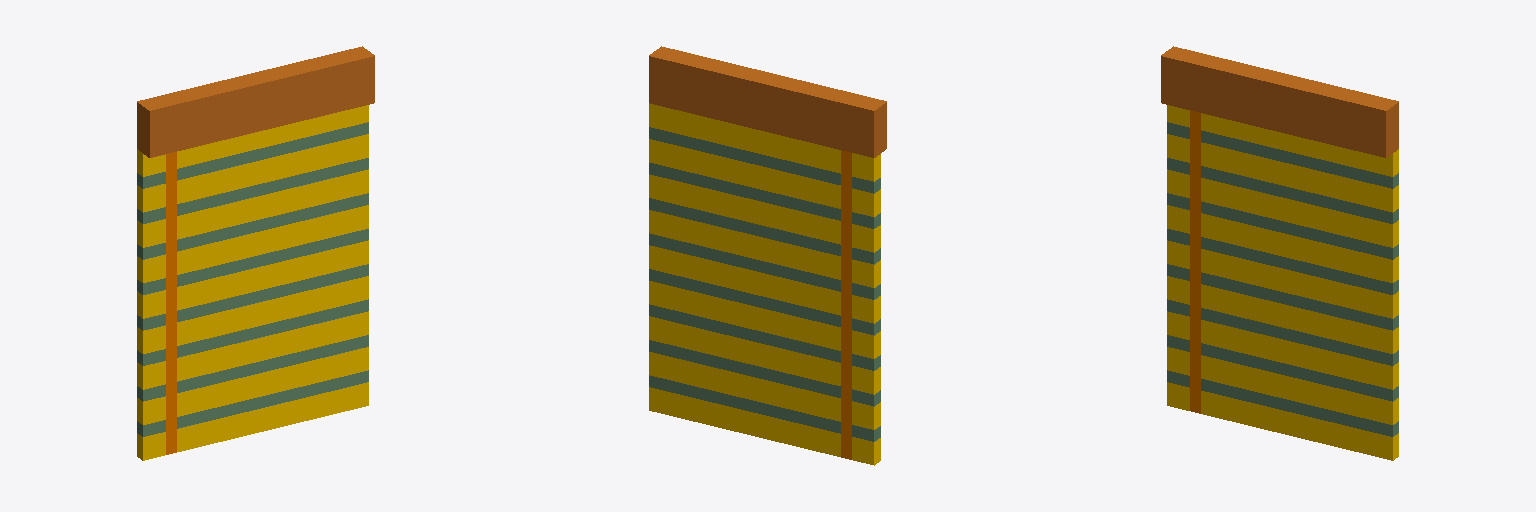
3 views of the same model, side by side, from view 1: azimuth 30°, elevation 25°; view 2: azimuth 150°, elevation 25°; view 3: azimuth 330°, elevation 25° (orthographic).
Visible parts, largest first — view 1: object 1; view 2: object 1; view 3: object 1.
Boxes of the visible parts, <box> form: object 1: <box>137,46,374,460</box>; object 1: <box>649,46,886,465</box>; object 1: <box>1161,46,1398,460</box>.
Bounding box in the file's own units: 2 × 3 × 0.2.
1 materials, 1 textured.